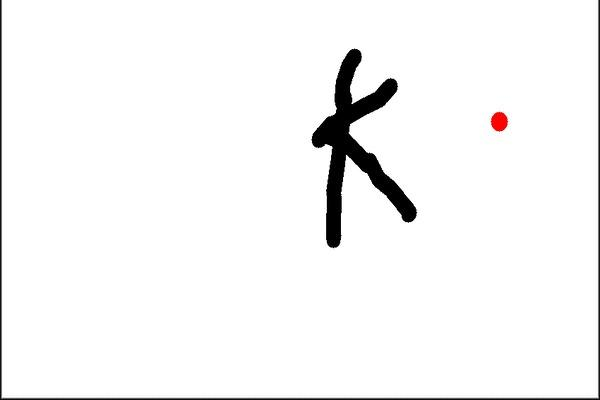K: (306, 43, 425, 255)
